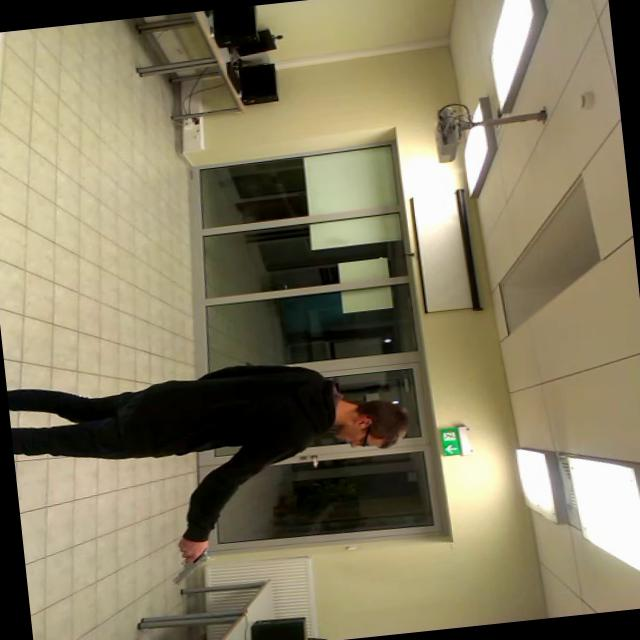handgun: (157, 546, 221, 592)
